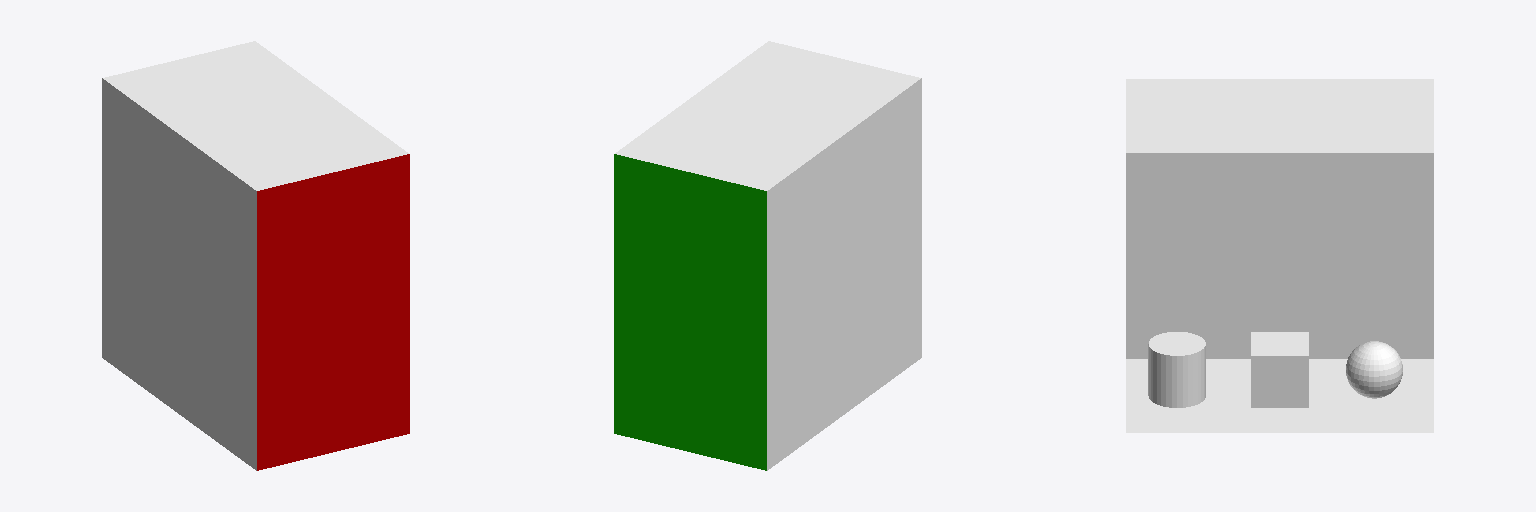
3 renders of one model, left to right at view 1: azimuth 30°, elevation 25°; view 2: azimuth 150°, elevation 25°; view 3: azimuth 270°, elevation 25°, orthographic.
Parts seen in each view (by area): view 1: Back, Left, Roof; view 2: Back, Right, Roof; view 3: Back, Roof, Floor, Cube, Cylinder, Sphere.
Part boxes in pixels (bbox=[...]): Back: bbox=[102, 78, 256, 470]; Left: bbox=[257, 154, 409, 470]; Roof: bbox=[103, 41, 408, 190]; Back: bbox=[767, 78, 921, 470]; Right: bbox=[614, 154, 766, 470]; Roof: bbox=[615, 41, 920, 190]; Back: bbox=[1126, 153, 1433, 358]; Roof: bbox=[1126, 79, 1433, 152]; Floor: bbox=[1126, 359, 1433, 432]; Cube: bbox=[1251, 332, 1308, 407]; Cylinder: bbox=[1148, 332, 1205, 407]; Sphere: bbox=[1346, 341, 1402, 398].
Bounding box in the file's own units: 2 × 3.5 × 3.5.